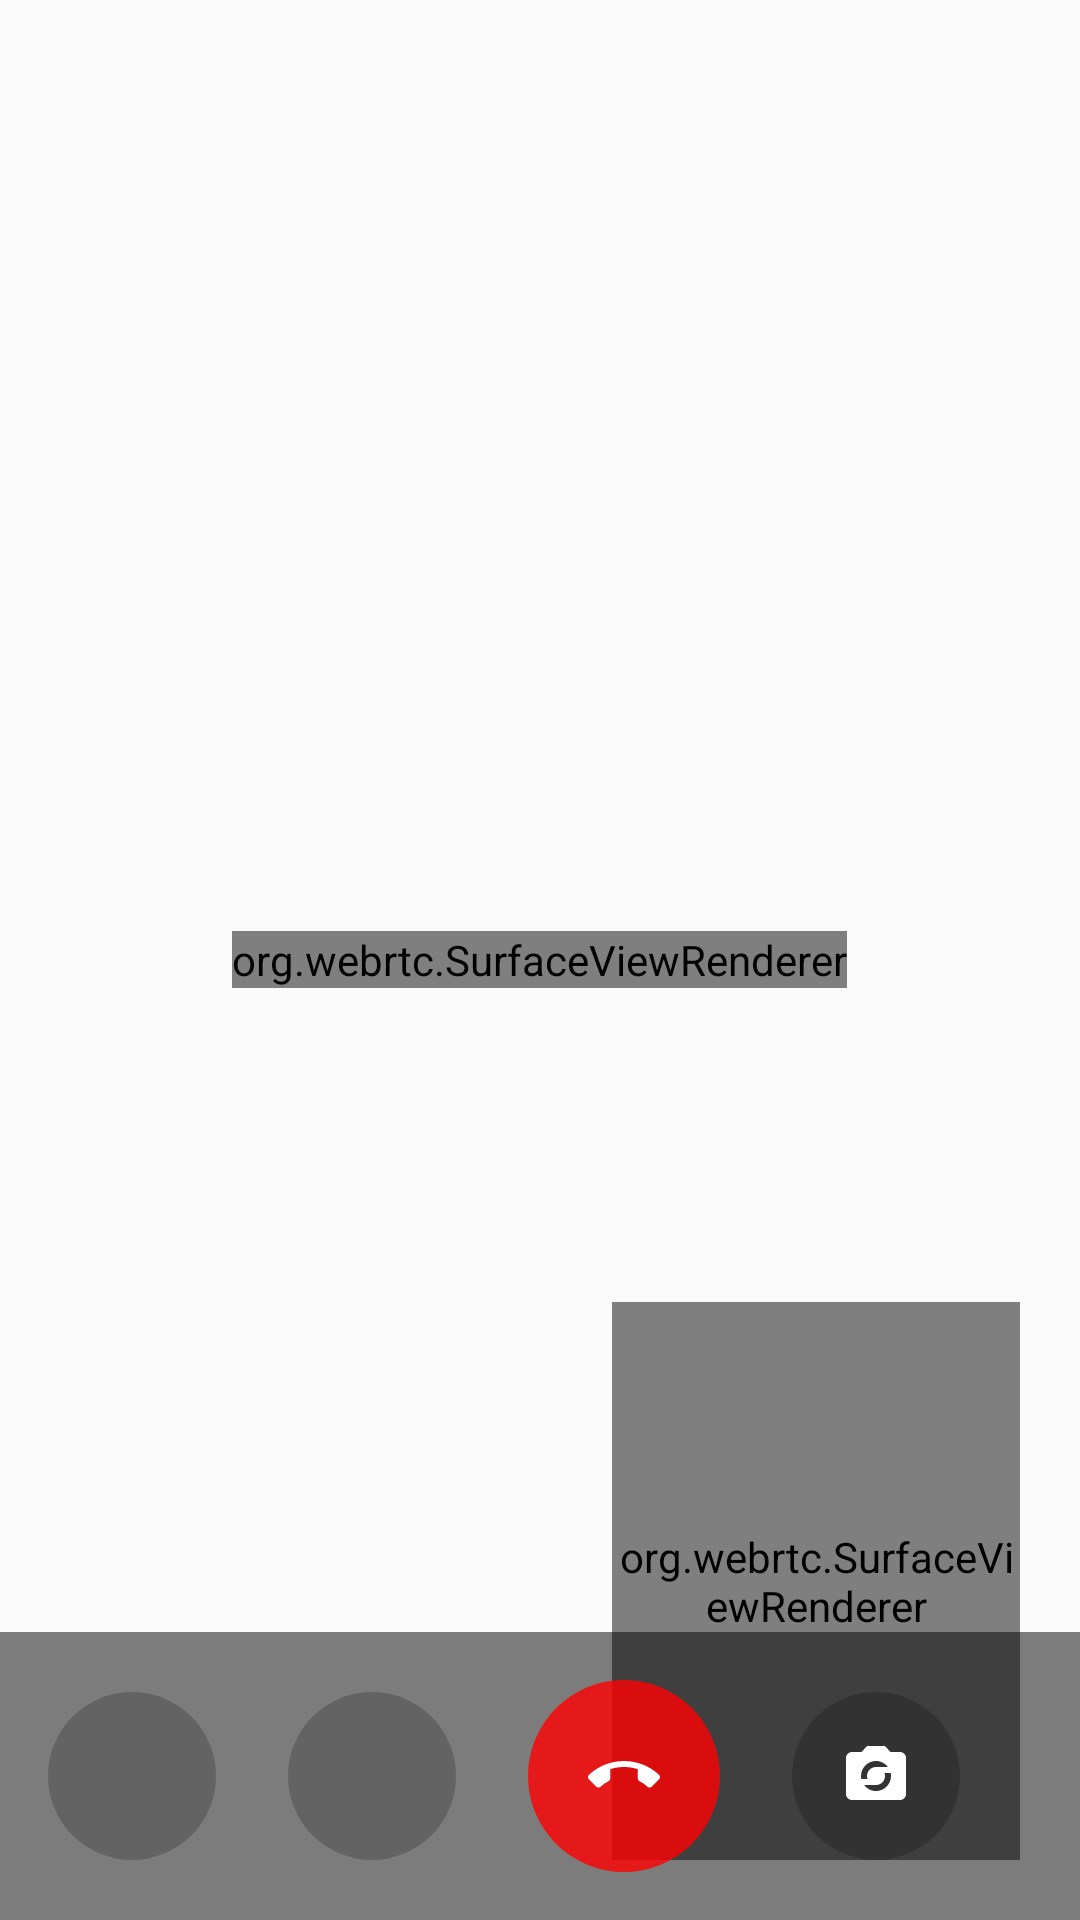

Screen size 1080 x 1920. Icon name, then its box in pixels as (x1, y1, x2, y2):
切换摄像头: (846, 1746, 906, 1800)
结束通话: (528, 1680, 720, 1872)
